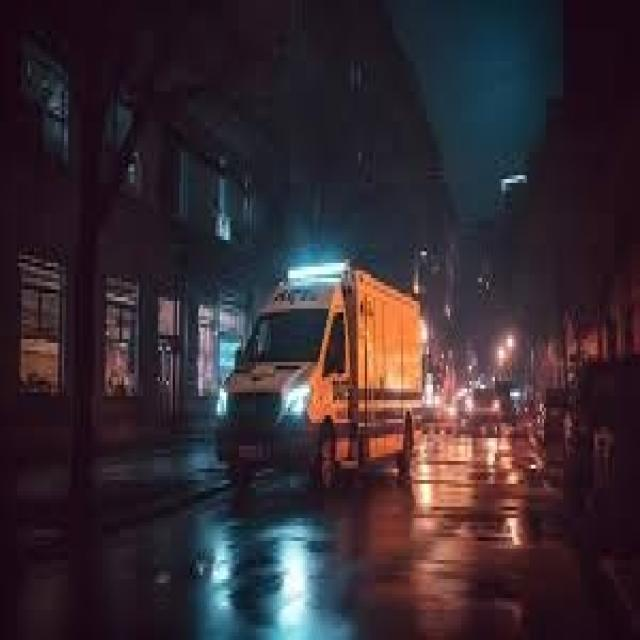ambulance: (210, 251, 428, 502)
